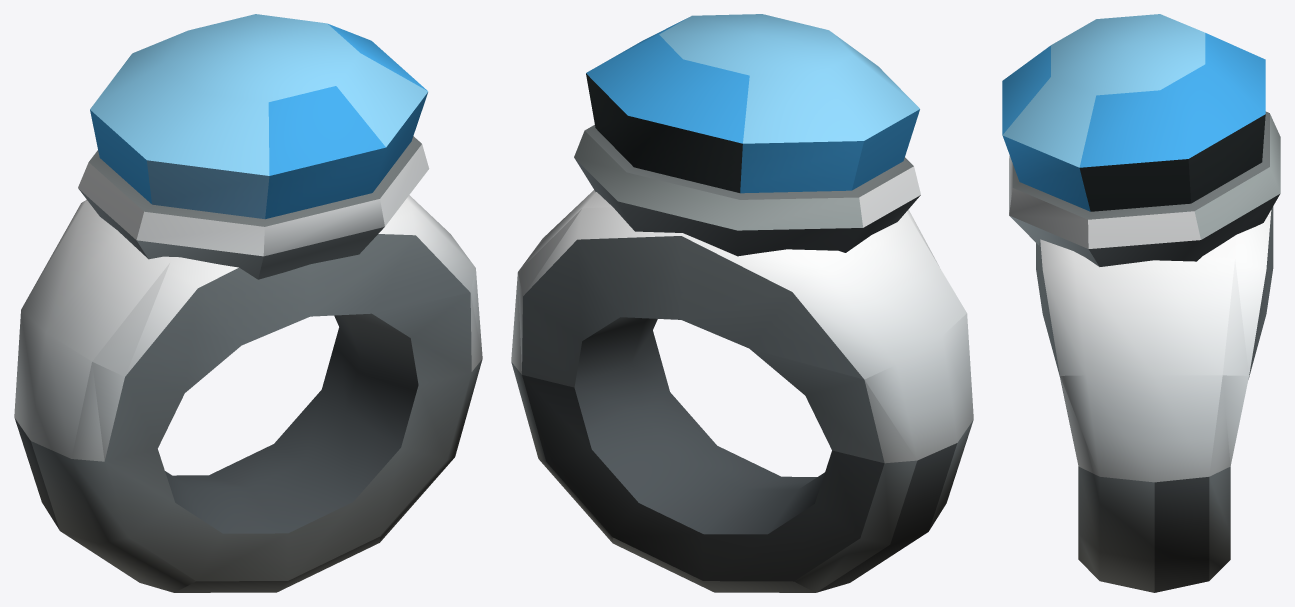
Rendered from ring_silver_sapphire.glb.
3 views of the same model, side by side, from view 1: azimuth 30°, elevation 25°; view 2: azimuth 150°, elevation 25°; view 3: azimuth 270°, elevation 25° (orthographic). The views are drawn at different scales.
Parts seen in each view (by area): view 1: Item; view 2: Item; view 3: Item.
Part boxes in pixels (left/top/right/bottom): Item: left=14, top=14, right=482, bottom=592; Item: left=511, top=14, right=973, bottom=592; Item: left=1002, top=14, right=1280, bottom=592.
Size of the model in its own units: 0.52 by 0.62 by 0.3.
Materials: 3 (3 with a texture image).
